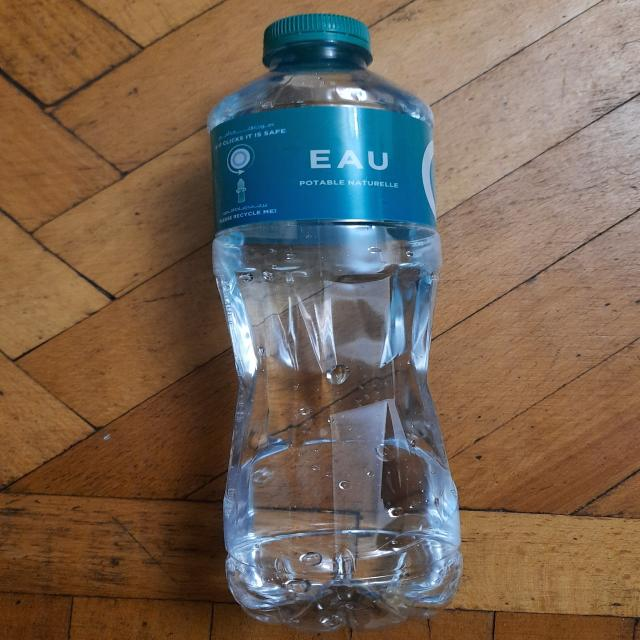plastic: (123, 12, 560, 614)
